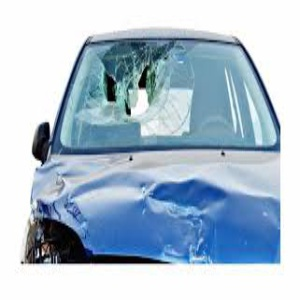bonnet: (43, 158, 278, 262)
front_windshield_glass: (80, 43, 259, 144)
